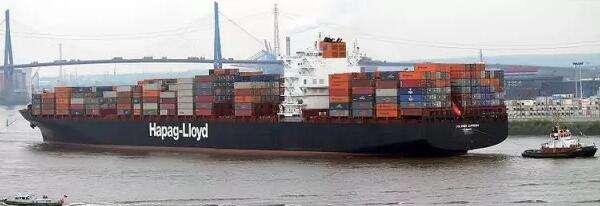Cargoship: (9, 9, 514, 157)
otherboat: (515, 119, 600, 161), (4, 188, 69, 206)
